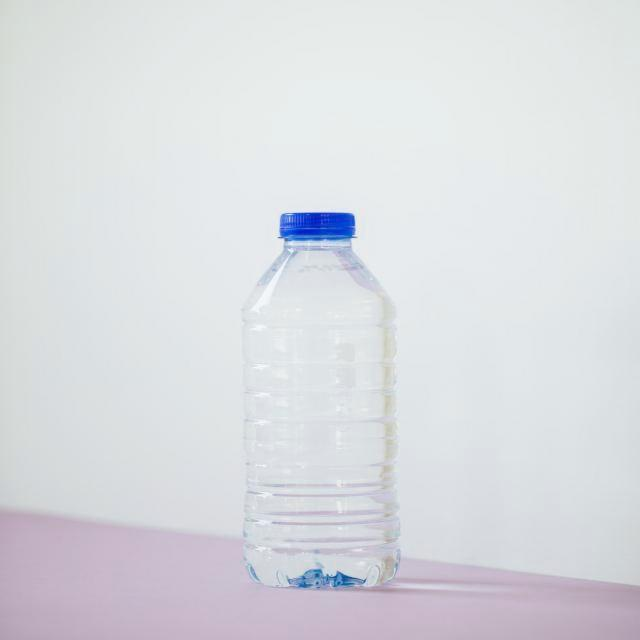bottle: (242, 213, 403, 590)
